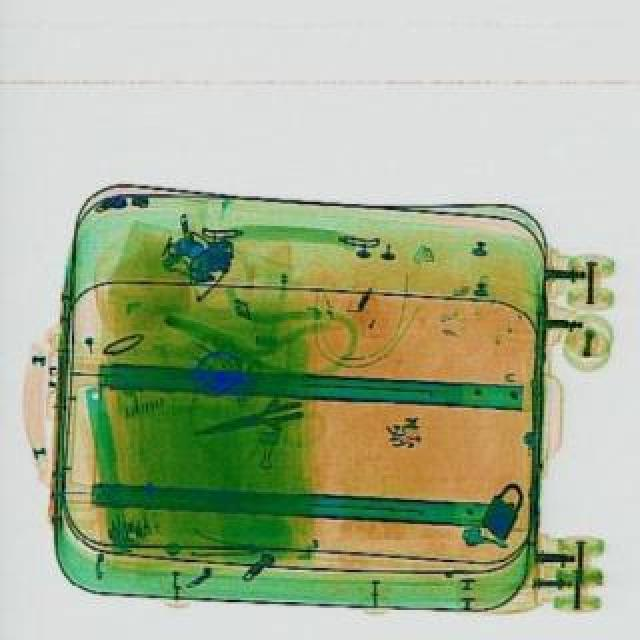knife: (188, 392, 308, 448)
